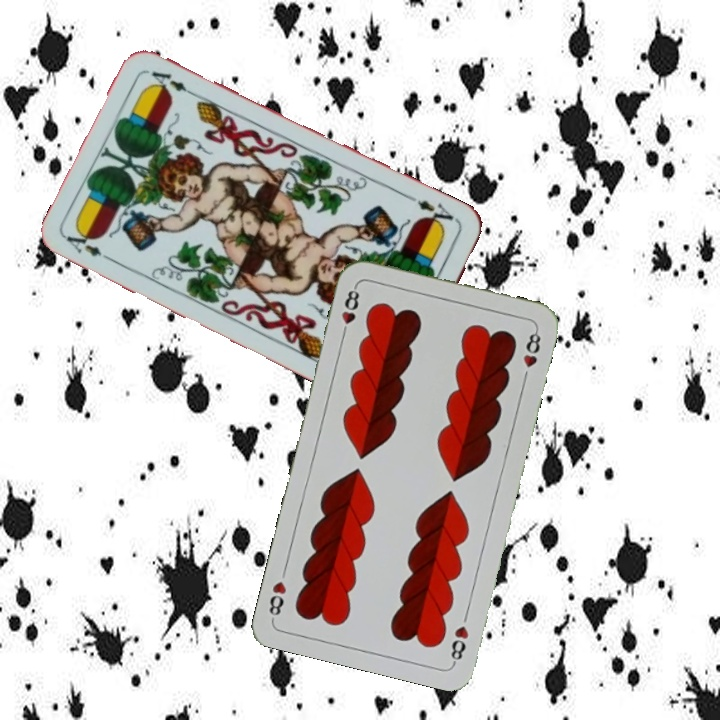EA: (405, 191, 461, 231), (62, 226, 117, 265)
H8: (337, 282, 362, 340), (446, 621, 471, 666)
